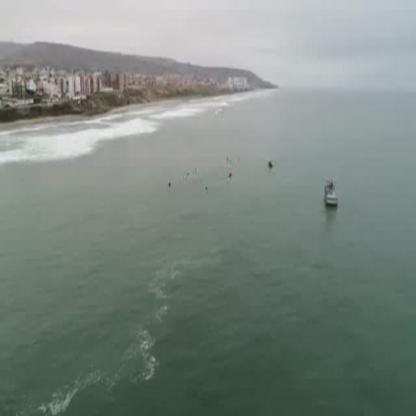Boat: (321, 179, 345, 210)
